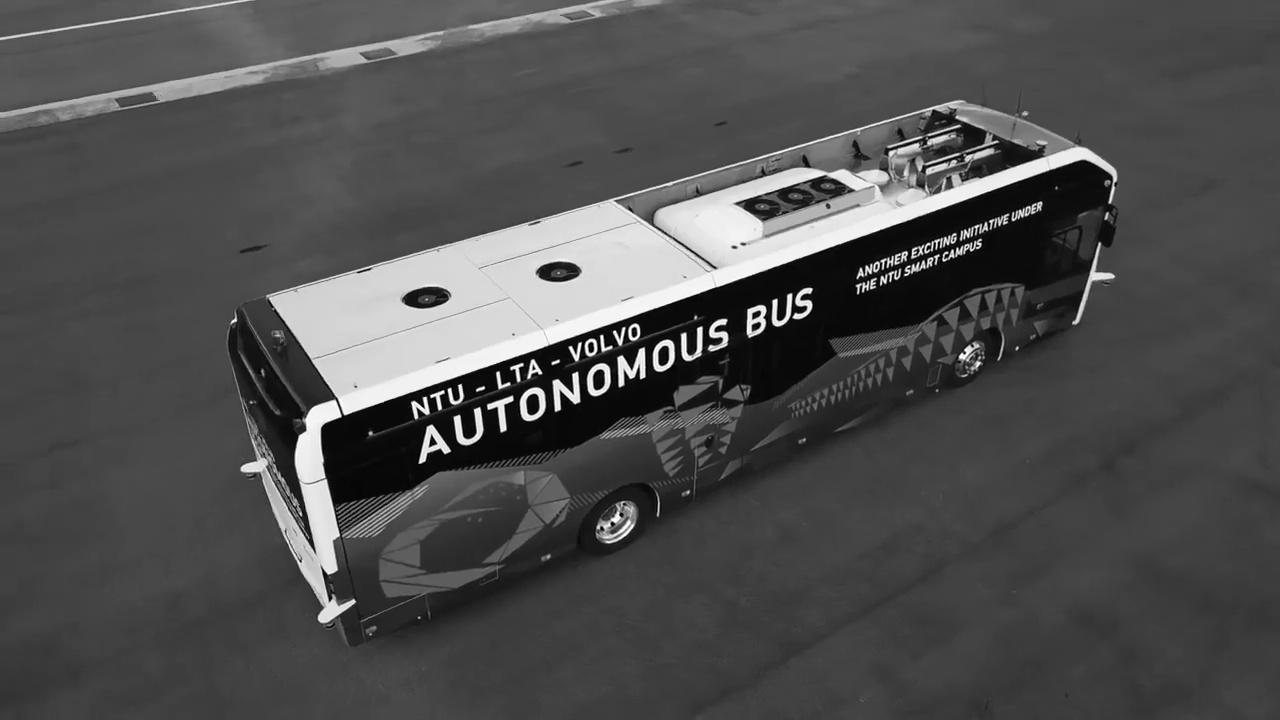Bus: (225, 91, 1120, 648)
